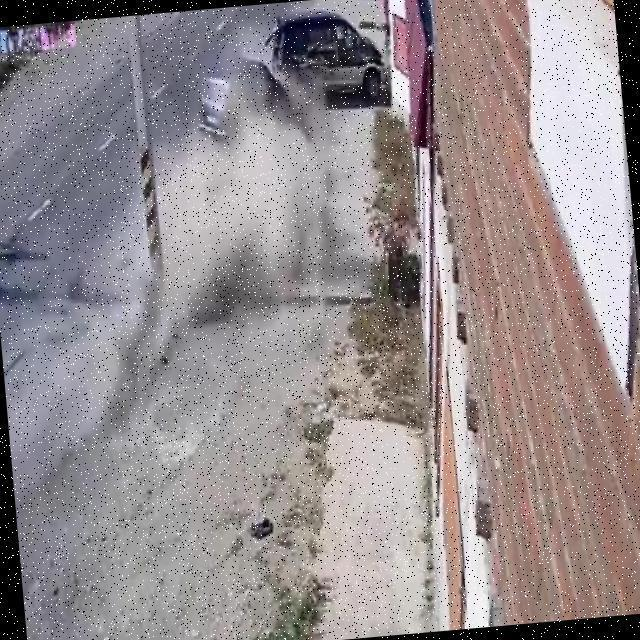accident: (214, 13, 344, 129)
